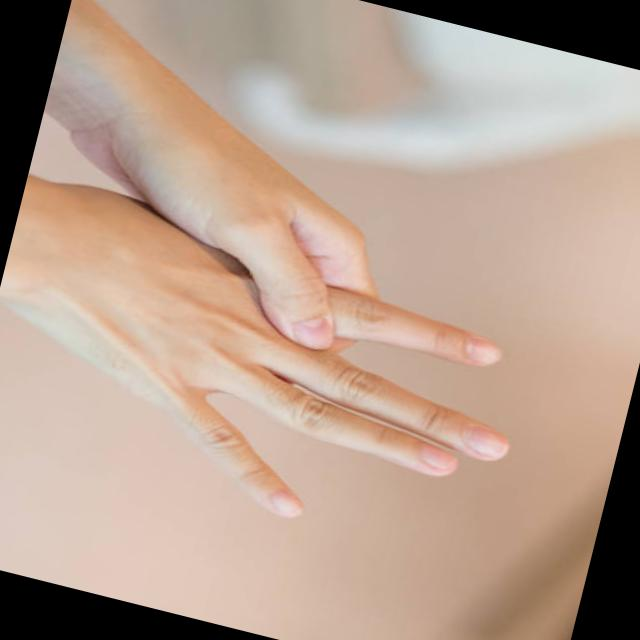Nail: (465, 426, 506, 460), (291, 317, 329, 349), (418, 444, 456, 474), (464, 339, 500, 366), (268, 491, 301, 518)
